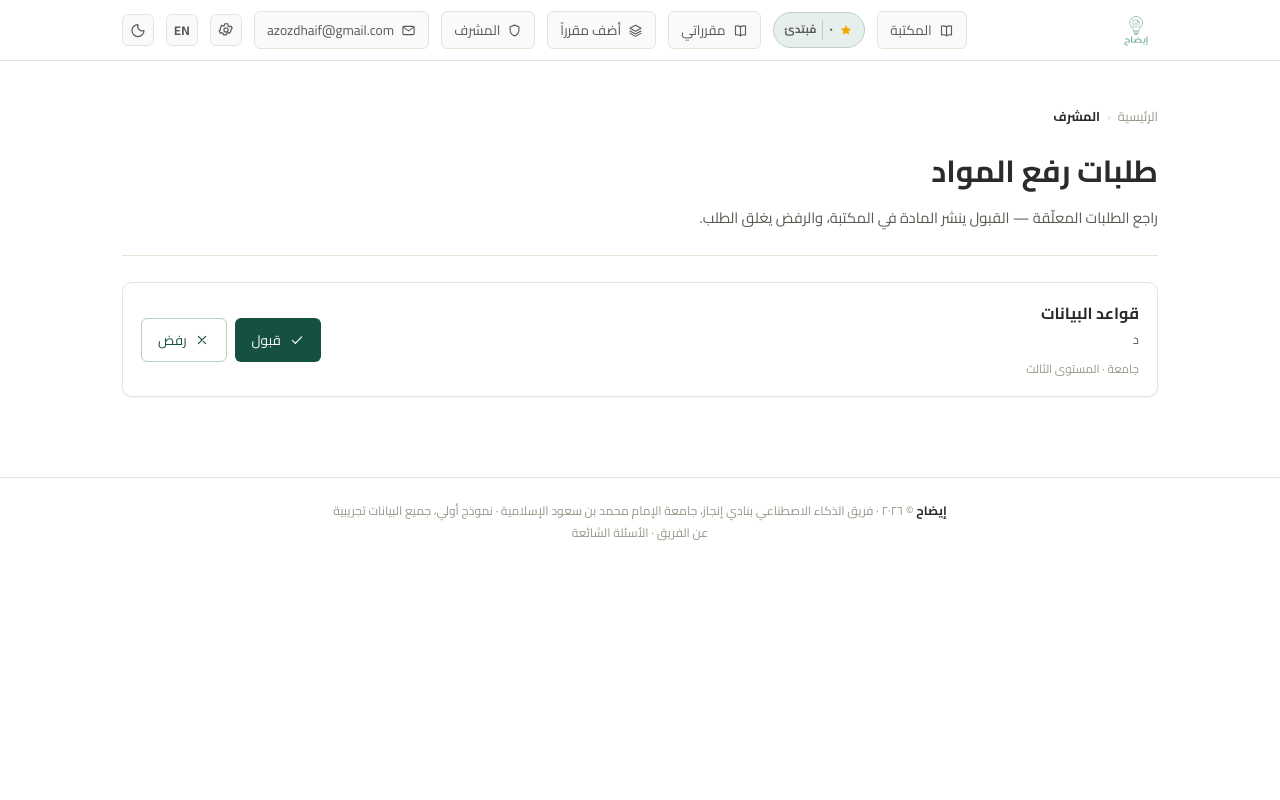
it: القبول يستدعي approveRequest ويعيد التحميل
expect the heading "قواعد البيانات" is shown: met, box left=1041, top=298, right=1139, bottom=328
Click the button "قبول".
click(278, 340)  # box left=236, top=318, right=321, bottom=362
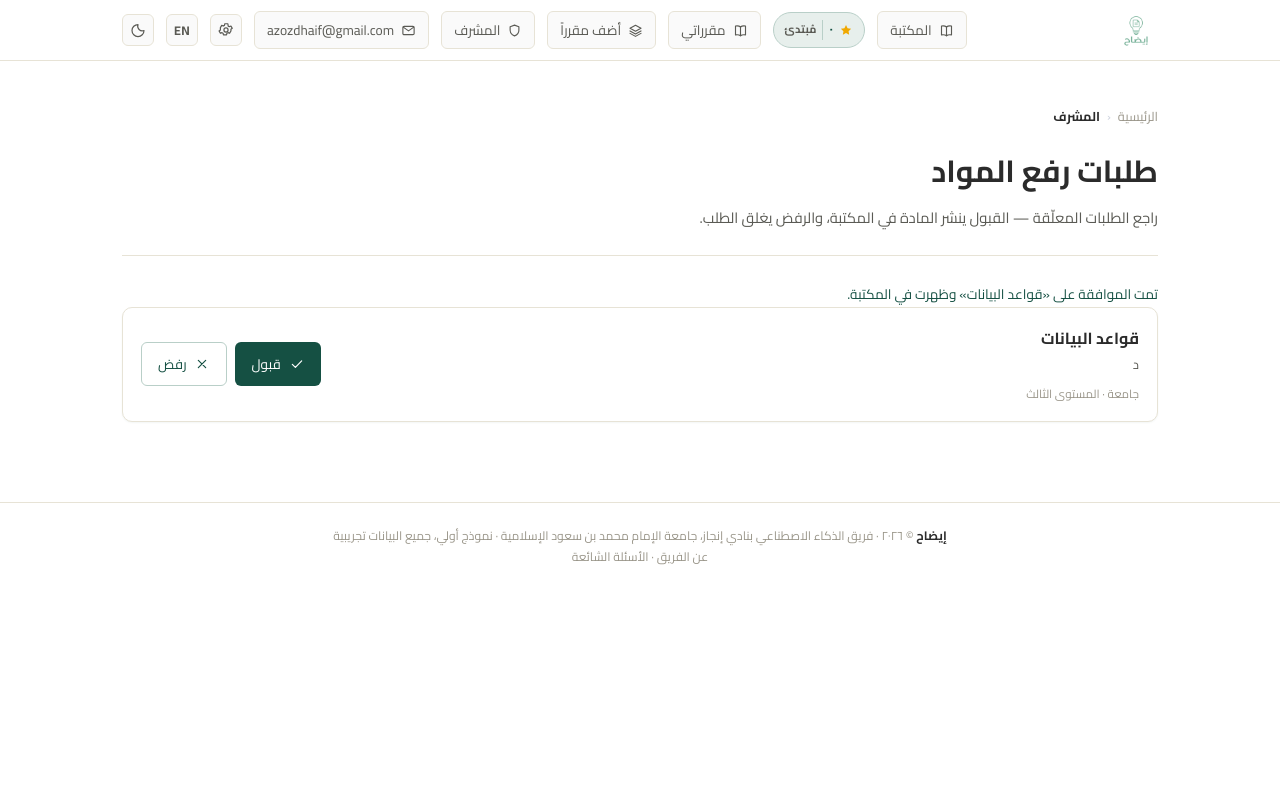
expect the text "تمت الموافقة على «قواعد البيانات» وظهرت في المكتبة." is shown: met, box left=847, top=281, right=1158, bottom=307
